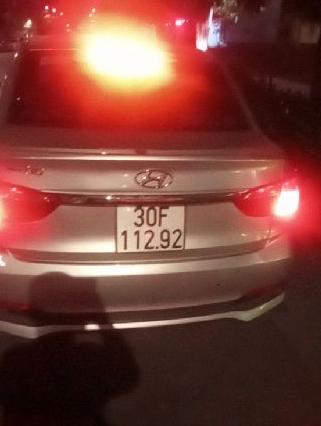Plate-iWeP: (118, 201, 188, 254)
